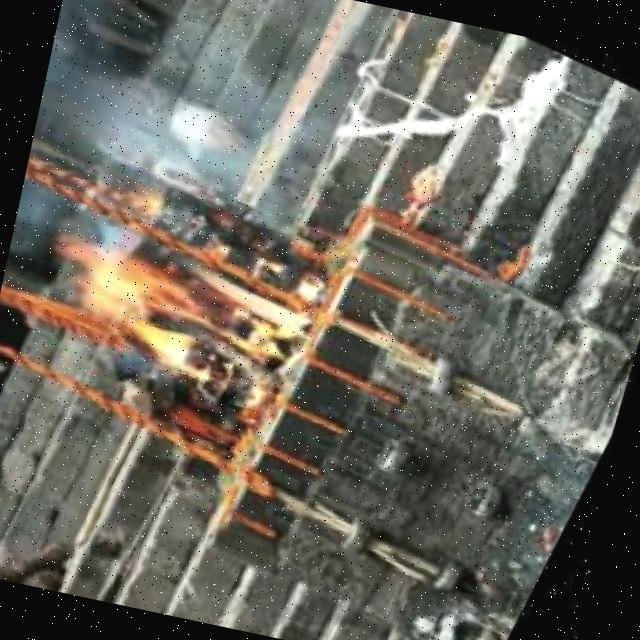fire: (22, 193, 338, 414)
